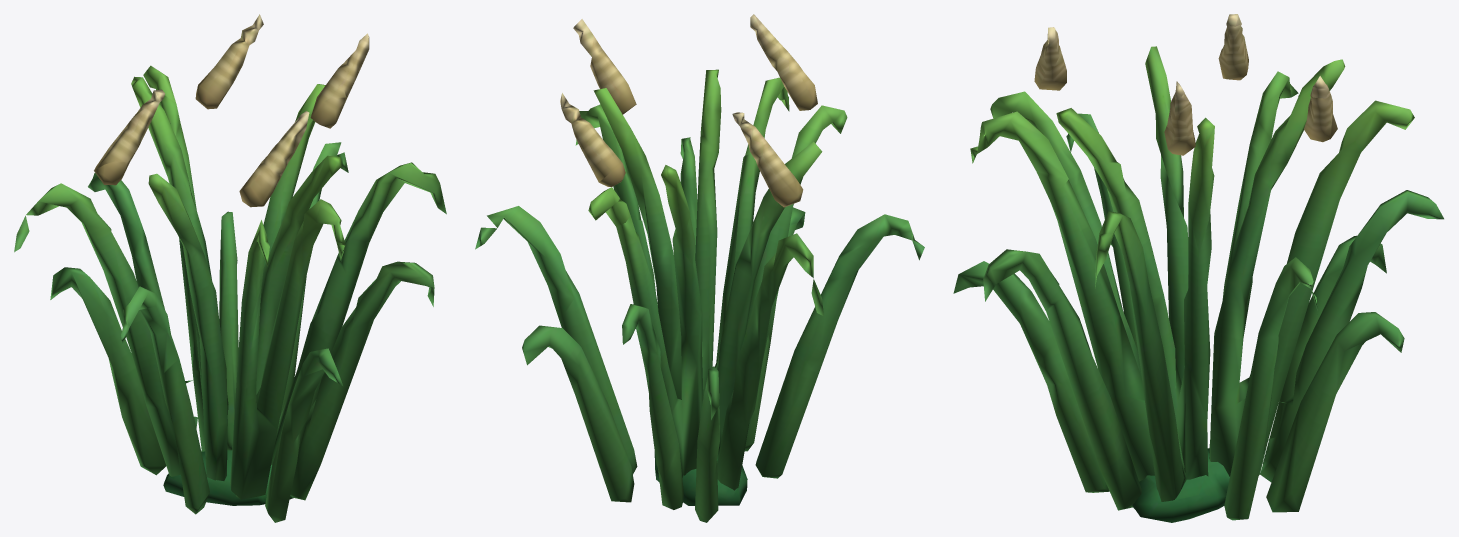
Rendered from tall-grass.glb.
3 views of the same model, side by side, from view 1: azimuth 30°, elevation 25°; view 2: azimuth 150°, elevation 25°; view 3: azimuth 270°, elevation 25° (orthographic). The views are drawn at different scales.
Visible parts, largest first — view 1: crown; view 2: crown; view 3: crown.
Boxes of the visible parts, <box> form: crown: <box>14,14,446,522</box>; crown: <box>475,14,924,522</box>; crown: <box>953,14,1443,522</box>.
Bounding box in the file's own units: 0.5096 × 0.6125 × 0.5635.
Materials: 1 (1 with a texture image).
